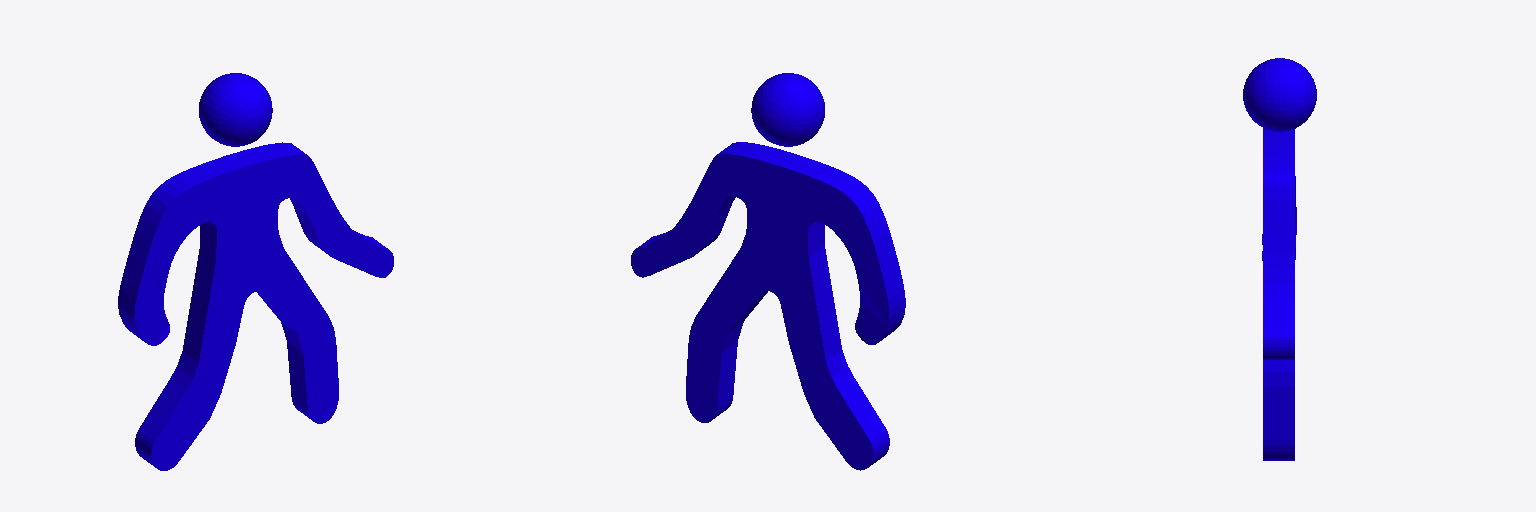
The model's file is person.obj.
3 renders of one model, left to right at view 1: azimuth 30°, elevation 25°; view 2: azimuth 150°, elevation 25°; view 3: azimuth 270°, elevation 25°, orthographic.
Visible parts, largest first — view 1: Box001; view 2: Box001; view 3: Box001.
Boxes of the visible parts, box(x1,y1,x2,y2) form: Box001: box(118, 73, 393, 470); Box001: box(631, 73, 905, 470); Box001: box(1243, 58, 1316, 460).
Bounding box in the file's own units: 1.37 × 1.87 × 0.3402.